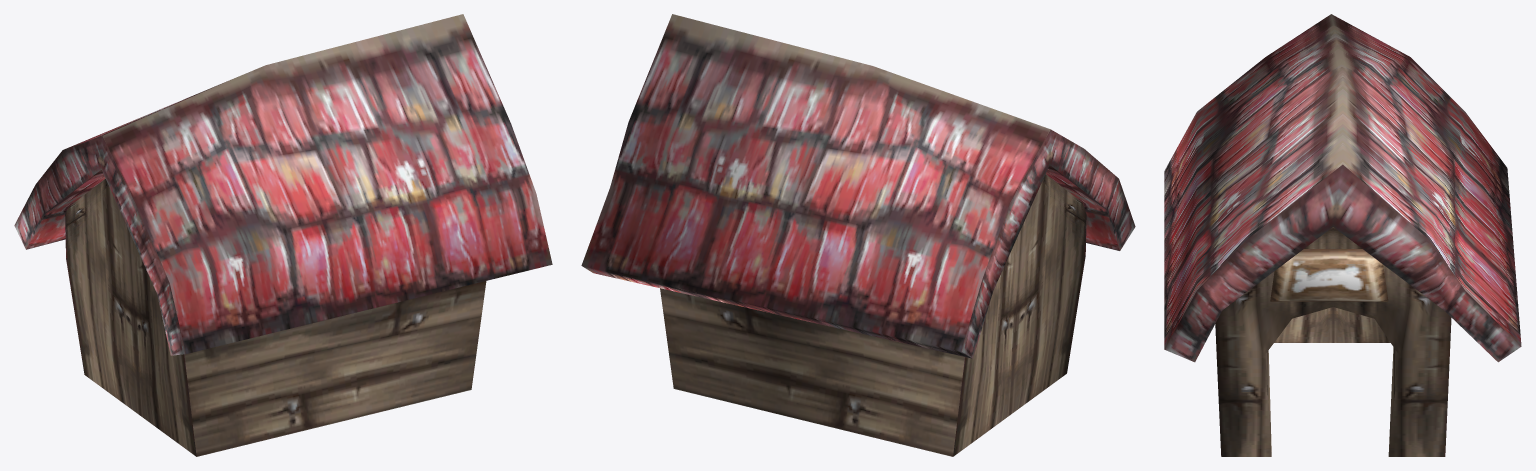
Rendered from doghouse.obj.
3 views of the same model, side by side, from view 1: azimuth 30°, elevation 25°; view 2: azimuth 150°, elevation 25°; view 3: azimuth 270°, elevation 25° (orthographic).
Visible parts, largest first — view 1: DogHouse; view 2: DogHouse; view 3: DogHouse.
Part boxes in pixels (bbox=[...]): DogHouse: bbox=[14, 14, 552, 456]; DogHouse: bbox=[581, 14, 1135, 456]; DogHouse: bbox=[1164, 14, 1521, 456].
Size of the model in its own units: 2.46 by 2.04 by 2.08.
1 material, 1 textured.
